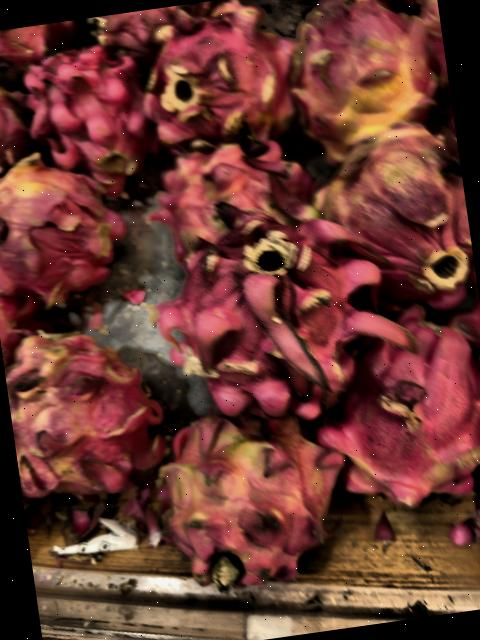buah-naga-belum-matang: (142, 393, 349, 613), (295, 114, 479, 316), (0, 314, 152, 493), (279, 0, 447, 133), (133, 129, 311, 252), (0, 150, 138, 304)
buah-naga-matang: (158, 202, 380, 424), (326, 313, 480, 504), (134, 14, 302, 156), (13, 48, 154, 178), (0, 62, 32, 175)
